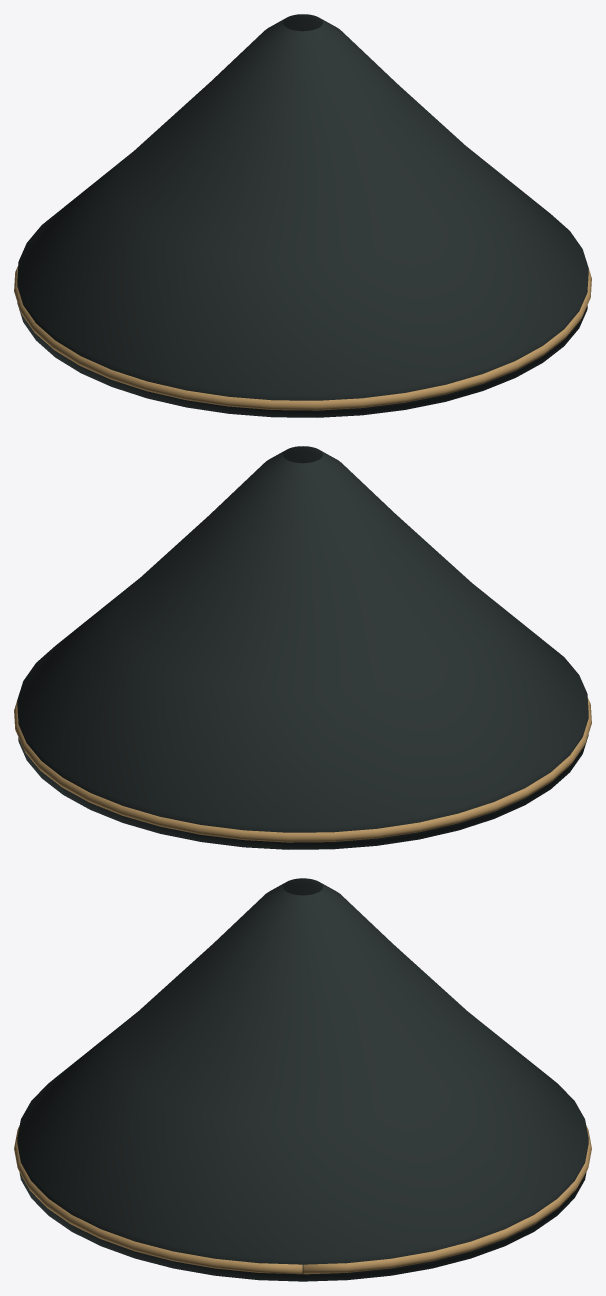
Rendered from studio_pendant.glb.
The picture shows the model from 3 angles, top to bottom: view 1: azimuth 30°, elevation 25°; view 2: azimuth 150°, elevation 25°; view 3: azimuth 270°, elevation 25°; orthographic projection.
Visible parts, largest first — view 1: studio_pendant / Atelier / charcoal powder coat, studio_pendant / Atelier / satin brass; view 2: studio_pendant / Atelier / charcoal powder coat, studio_pendant / Atelier / satin brass; view 3: studio_pendant / Atelier / charcoal powder coat, studio_pendant / Atelier / satin brass.
Part boxes in pixels (bbox=[...]): studio_pendant / Atelier / charcoal powder coat: bbox=[17, 14, 588, 417]; studio_pendant / Atelier / satin brass: bbox=[14, 265, 591, 410]; studio_pendant / Atelier / charcoal powder coat: bbox=[17, 446, 588, 849]; studio_pendant / Atelier / satin brass: bbox=[14, 697, 591, 842]; studio_pendant / Atelier / charcoal powder coat: bbox=[17, 878, 588, 1281]; studio_pendant / Atelier / satin brass: bbox=[14, 1125, 591, 1274].
Size of the model in its own units: 0.344 by 0.18 by 0.344.
